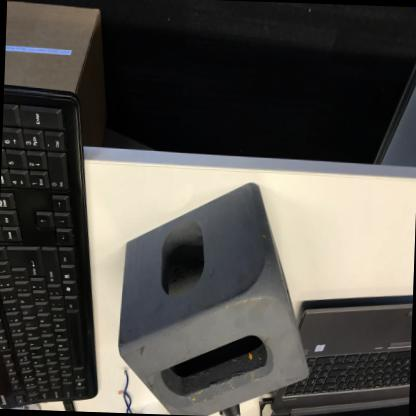CornerCasting: (110, 173, 319, 415)
